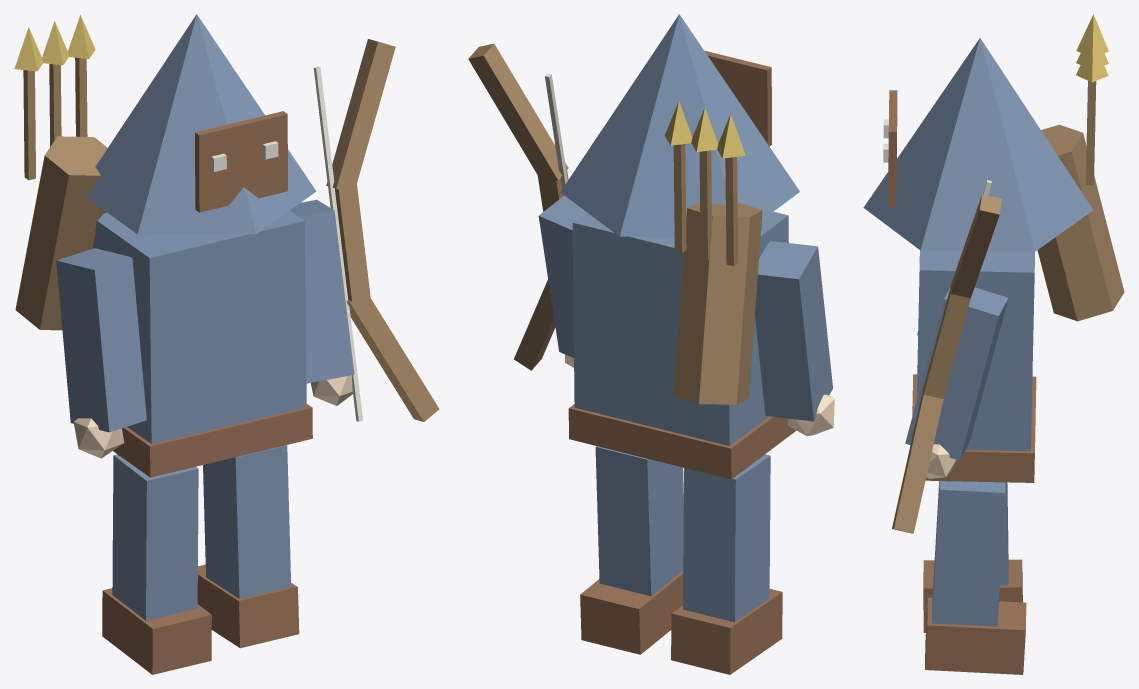
The model's file is npcpose_archer_idle_10.glb.
The picture shows the model from 3 angles, left to right: view 1: azimuth 30°, elevation 25°; view 2: azimuth 150°, elevation 25°; view 3: azimuth 270°, elevation 25°; orthographic projection. The views are drawn at different scales.
Parts seen in each view (by area): view 1: npcpose; view 2: npcpose; view 3: npcpose.
Part boxes in pixels (box(x1,y1,x2,y2)): npcpose: box(14, 14, 439, 674); npcpose: box(468, 14, 834, 674); npcpose: box(863, 14, 1124, 674).
Size of the model in its own units: 0.91 by 1.62 by 0.6354.
